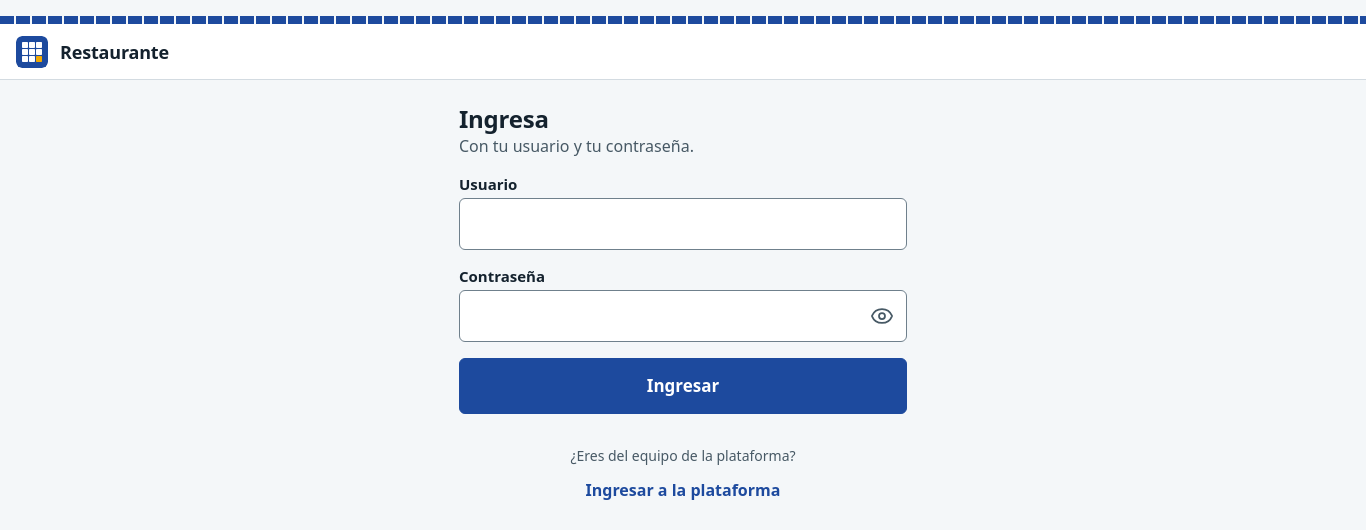
Test case: ingreso con usuario y contraseña › ingresa, guarda el token de la sesión y llega al inicio
(page scrolled)
In the field labelled "Usuario": (683, 224) [460,200,906,248], type "  Marta.Perez "
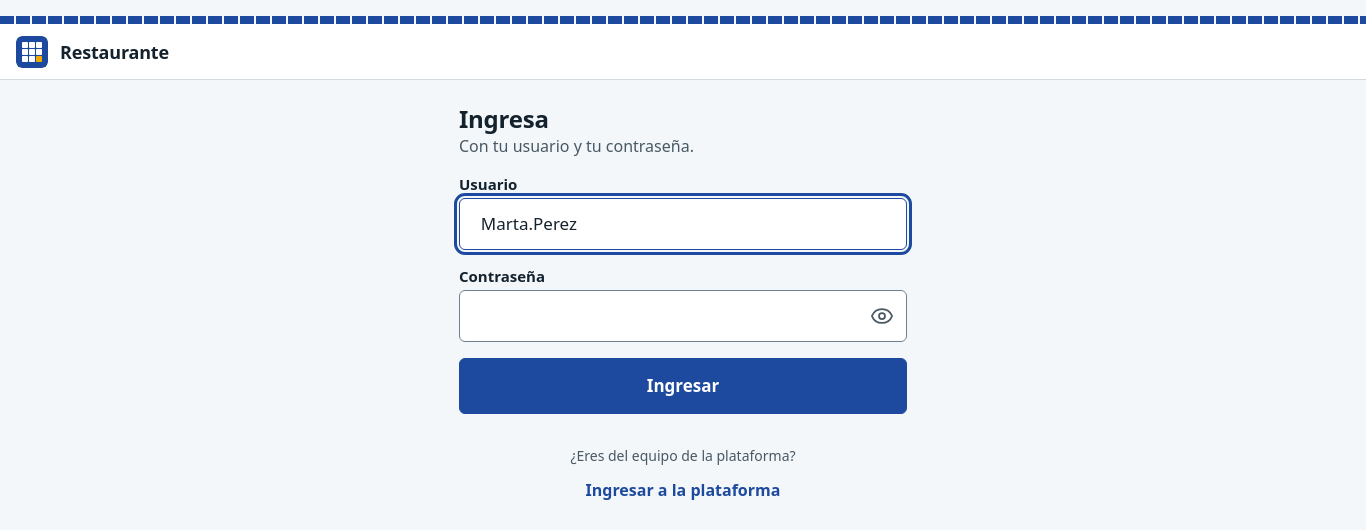
In the password field labelled "Contraseña": (659, 316) [460,292,858,340], type "Mi-clave-1"
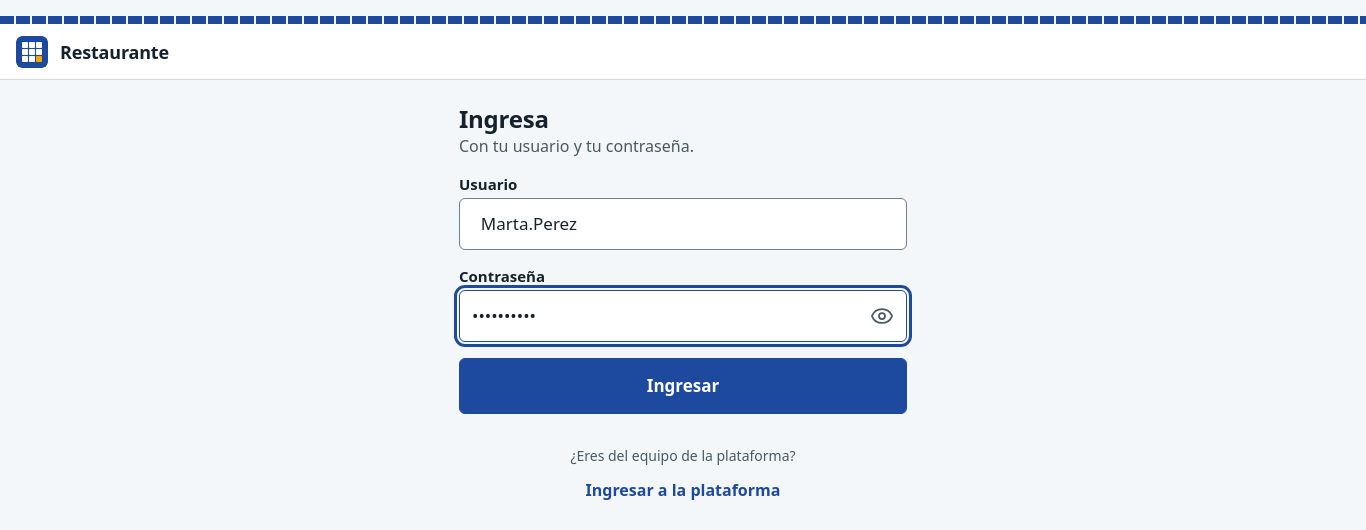
Click the button "Ingresar": (683, 386) [459,358,907,414]
(page scrolled)
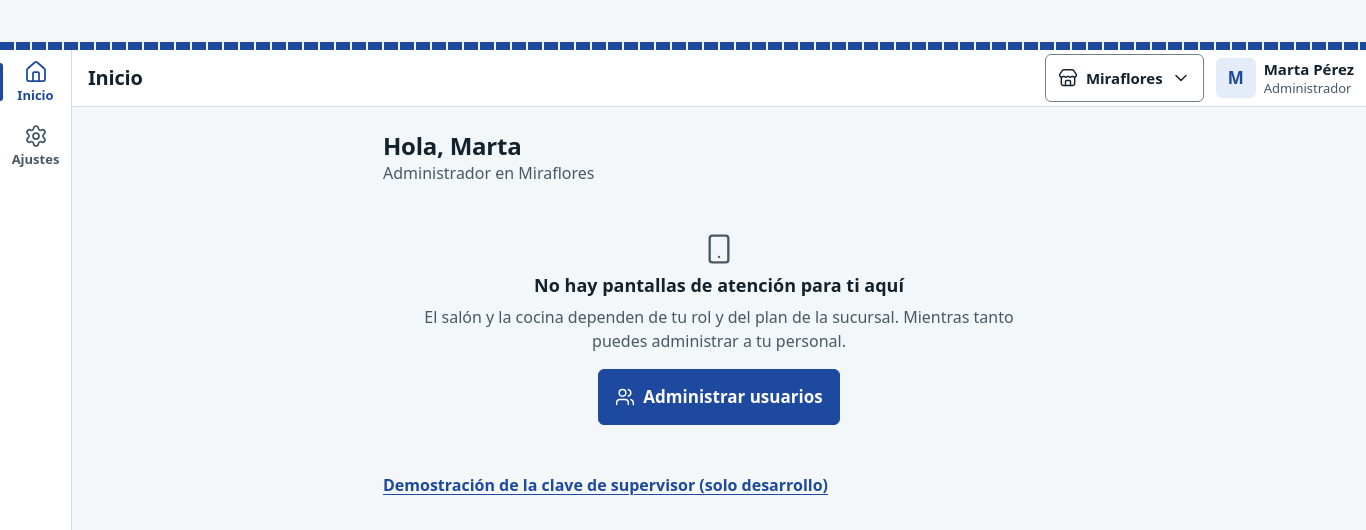
Expected: the heading "Hola, Marta" is shown, [383,129,521,162]
